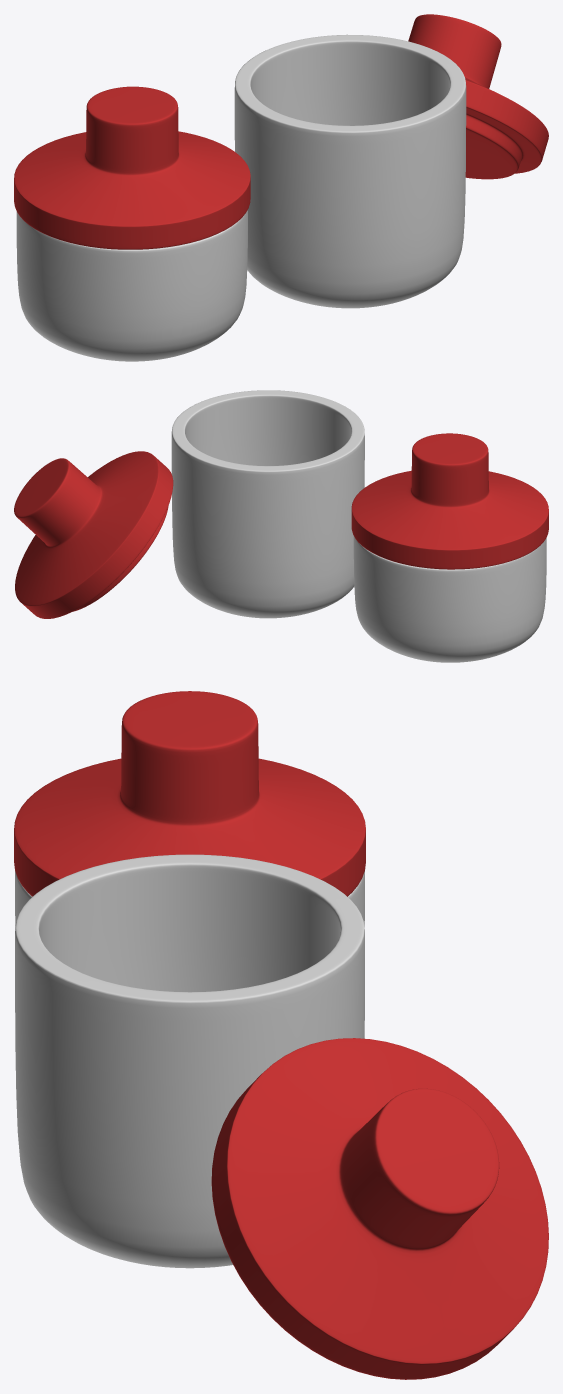
The model's file is sugarJar.fbx.
The picture shows the model from 3 angles, top to bottom: view 1: azimuth 30°, elevation 25°; view 2: azimuth 150°, elevation 25°; view 3: azimuth 270°, elevation 25°; orthographic projection. The views are drawn at different scales.
Visible parts, largest first — view 1: jar_big, jar_cap, jar_small, jar_cap.001; view 2: jar_big, jar_cap, jar_cap.001, jar_small; view 3: jar_big, jar_cap.001, jar_cap.
Boxes of the visible parts, <box> form: jar_big: <box>234,34,466,308</box>; jar_cap: <box>14,86,250,249</box>; jar_small: <box>16,210,247,361</box>; jar_cap.001: <box>408,14,548,179</box>; jar_big: <box>171,390,364,618</box>; jar_cap: <box>351,433,548,569</box>; jar_cap.001: <box>14,451,173,618</box>; jar_small: <box>353,536,546,662</box>; jar_big: <box>15,854,364,1268</box>; jar_cap.001: <box>211,1038,548,1379</box>; jar_cap: <box>14,691,365,896</box>.
Bounding box in the file's own units: 41.87 × 16.46 × 23.01.
